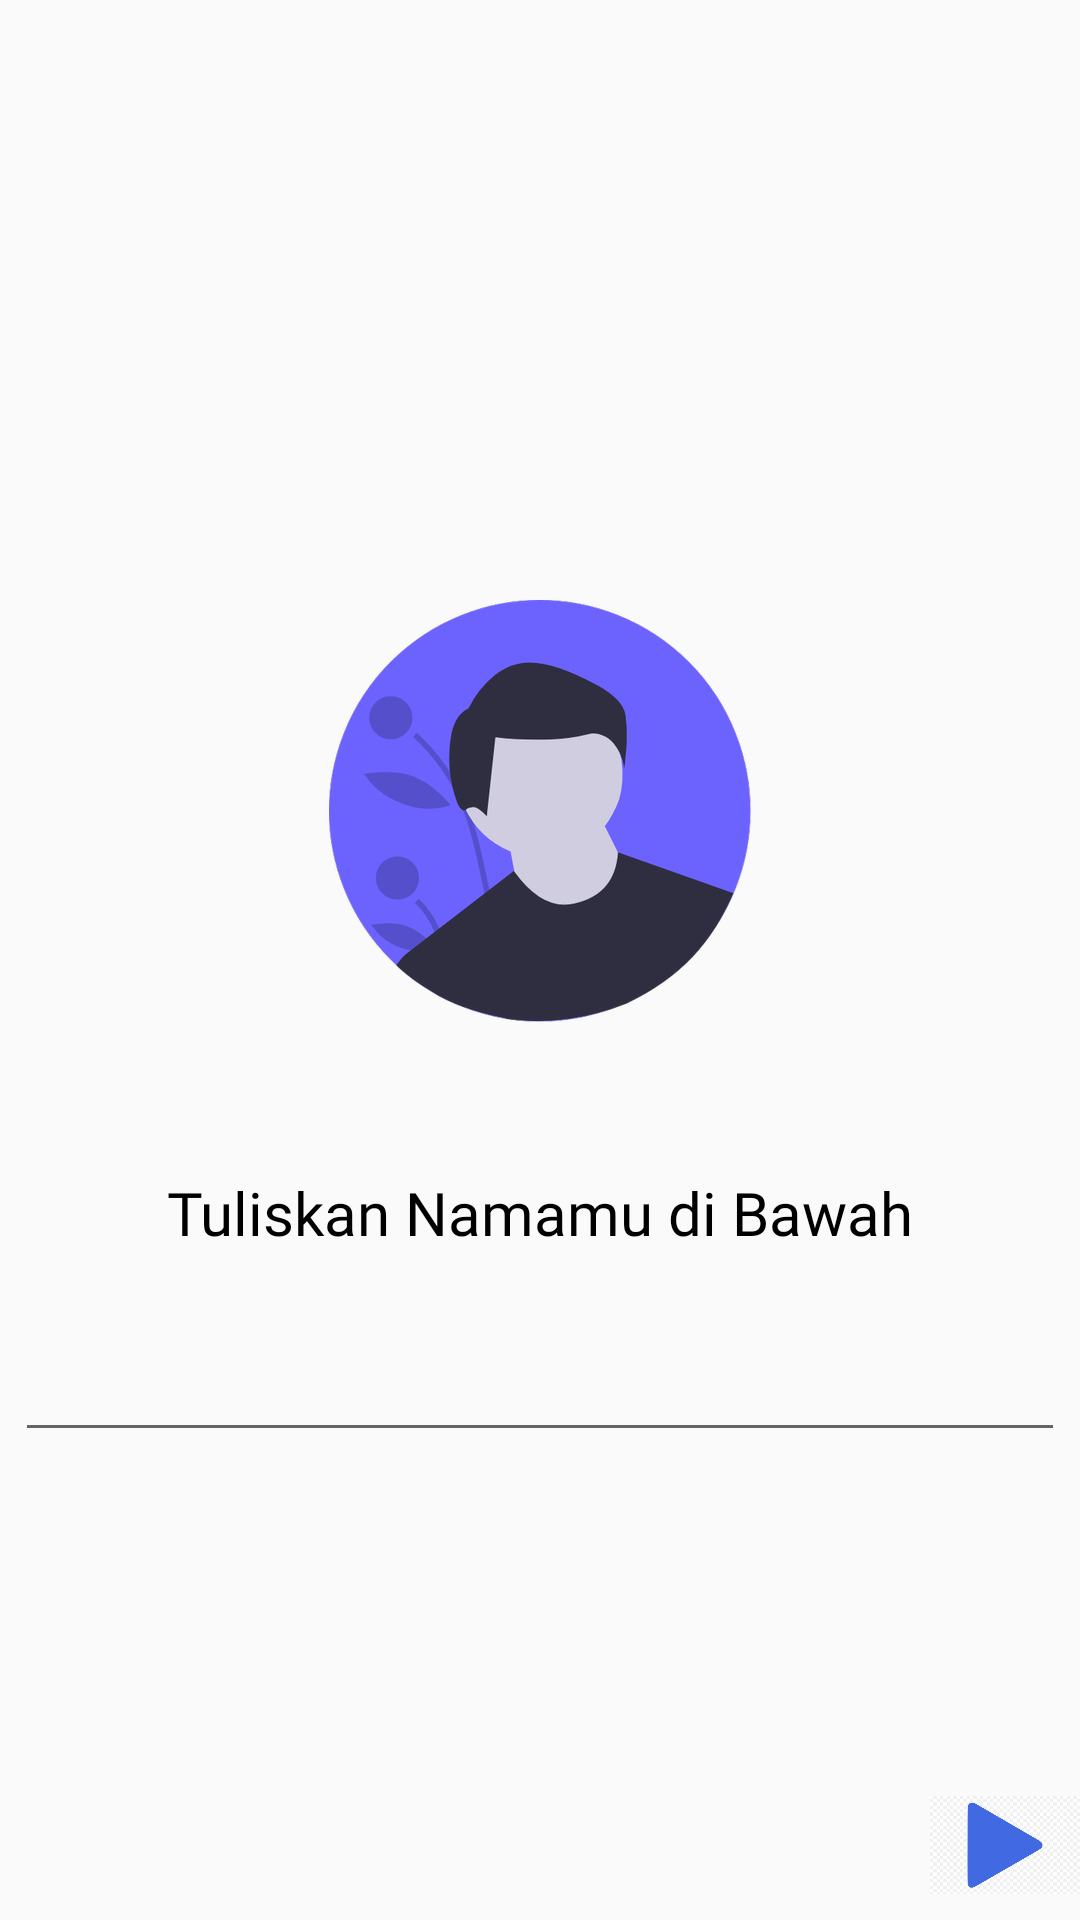

Icons on this 1080px x 1920px Android screen, each with the point to tap as (x=x, y=y):
next: (x=1005, y=1845)
